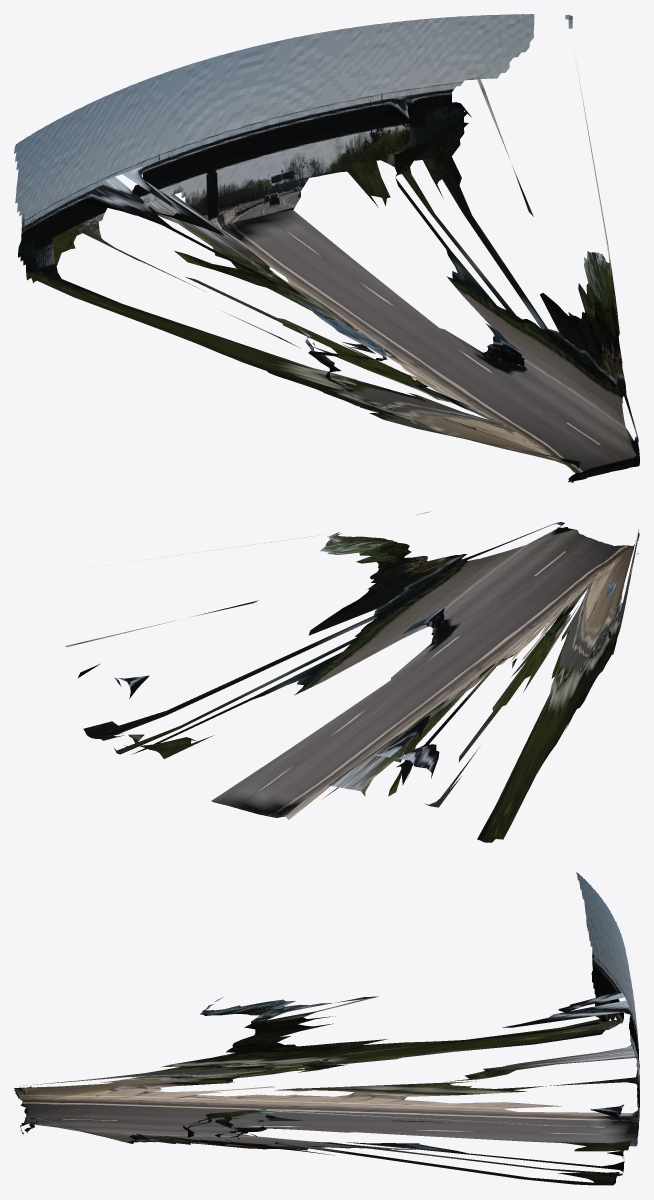
3 renders of one model, top to bottom at view 1: azimuth 30°, elevation 25°; view 2: azimuth 150°, elevation 25°; view 3: azimuth 270°, elevation 25°, orthographic. The views are drawn at different scales.
Visible parts, largest first — view 1: defaultobject; view 2: defaultobject; view 3: defaultobject.
Boxes of the visible parts, x1,y1,x2,y2 form: defaultobject: [14, 14, 639, 482]; defaultobject: [64, 512, 639, 842]; defaultobject: [14, 872, 639, 1185].
Bounding box in the file's own units: 39.36 × 12.1 × 44.89.
1 material, 1 textured.
